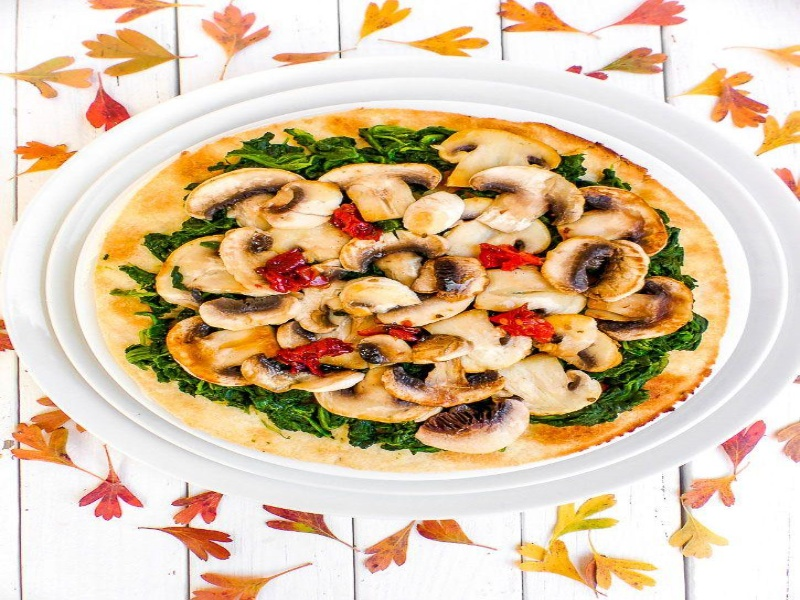champignon: (159, 313, 288, 395), (436, 121, 570, 197), (554, 182, 681, 260), (581, 272, 709, 346), (179, 165, 307, 234), (493, 351, 609, 427), (469, 162, 588, 236), (379, 353, 512, 414), (330, 160, 443, 227), (250, 181, 355, 233)
